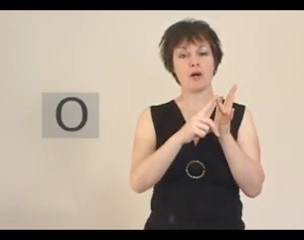O: (182, 80, 248, 144)
